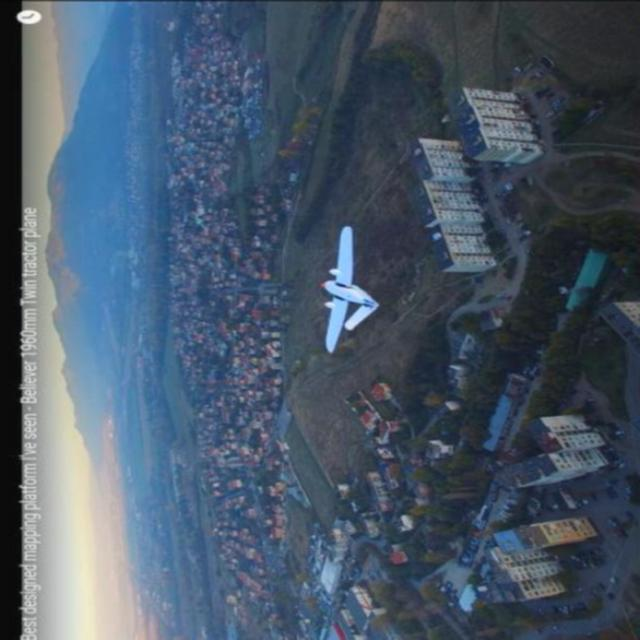plane: (319, 225, 380, 354)
